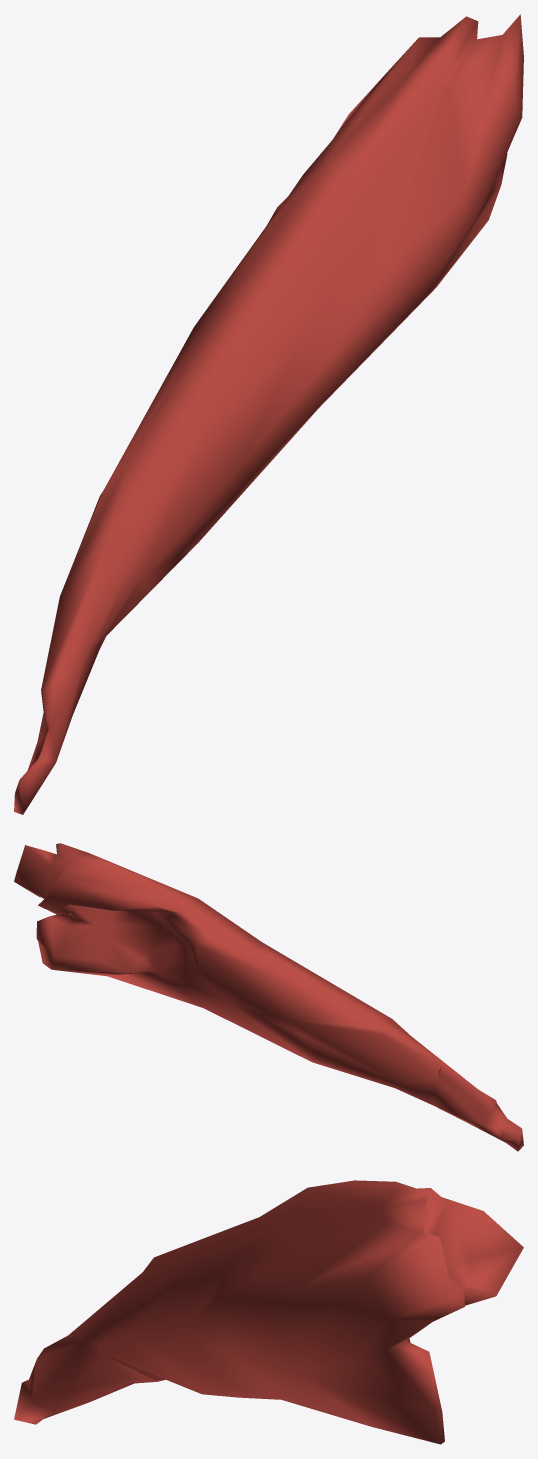
The model's file is musculos-oblique-head-of-adductor-pollicis-r.glb.
3 views of the same model, one above another, from view 1: azimuth 30°, elevation 25°; view 2: azimuth 150°, elevation 25°; view 3: azimuth 270°, elevation 25° (orthographic). The views are drawn at different scales.
Parts seen in each view (by area): view 1: Oblique head of adductor pollicis.r; view 2: Oblique head of adductor pollicis.r; view 3: Oblique head of adductor pollicis.r.
Boxes of the visible parts, left/top/right/bottom form: Oblique head of adductor pollicis.r: left=14, top=14, right=523, bottom=814; Oblique head of adductor pollicis.r: left=14, top=843, right=523, bottom=1151; Oblique head of adductor pollicis.r: left=14, top=1180, right=523, bottom=1444.
Size of the model in its own units: 0.044 by 0.0311 by 0.0247.
